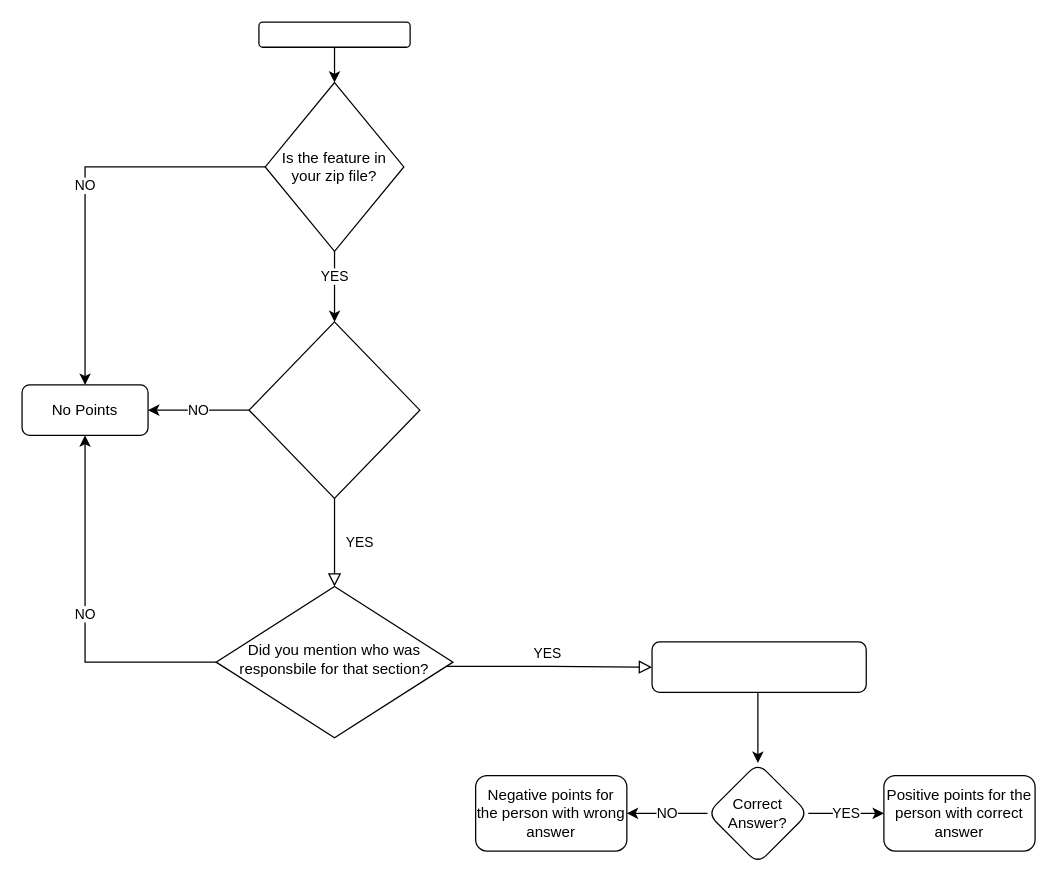
The diagram is 1057 pixels wide and 886 high, and some of its shapes have lost their labels. The shapes that lost their labels are listed below. From the top down, each one's centre as x and y in pixels, then its label:
At point 334,34: "Start Grading".
At point 334,409: "Is the feature mentioned in your report?".
At point 758,666: "That person(people) will get a question on that topic".
